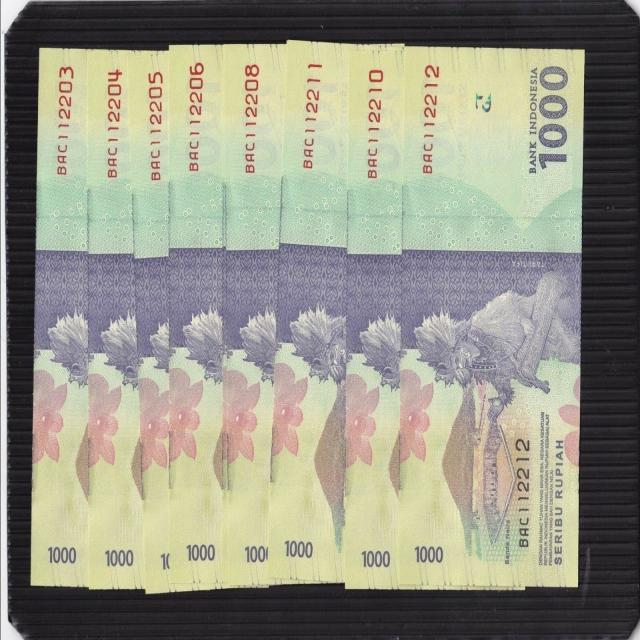1000IndonesianRupiah: (401, 48, 580, 586)
